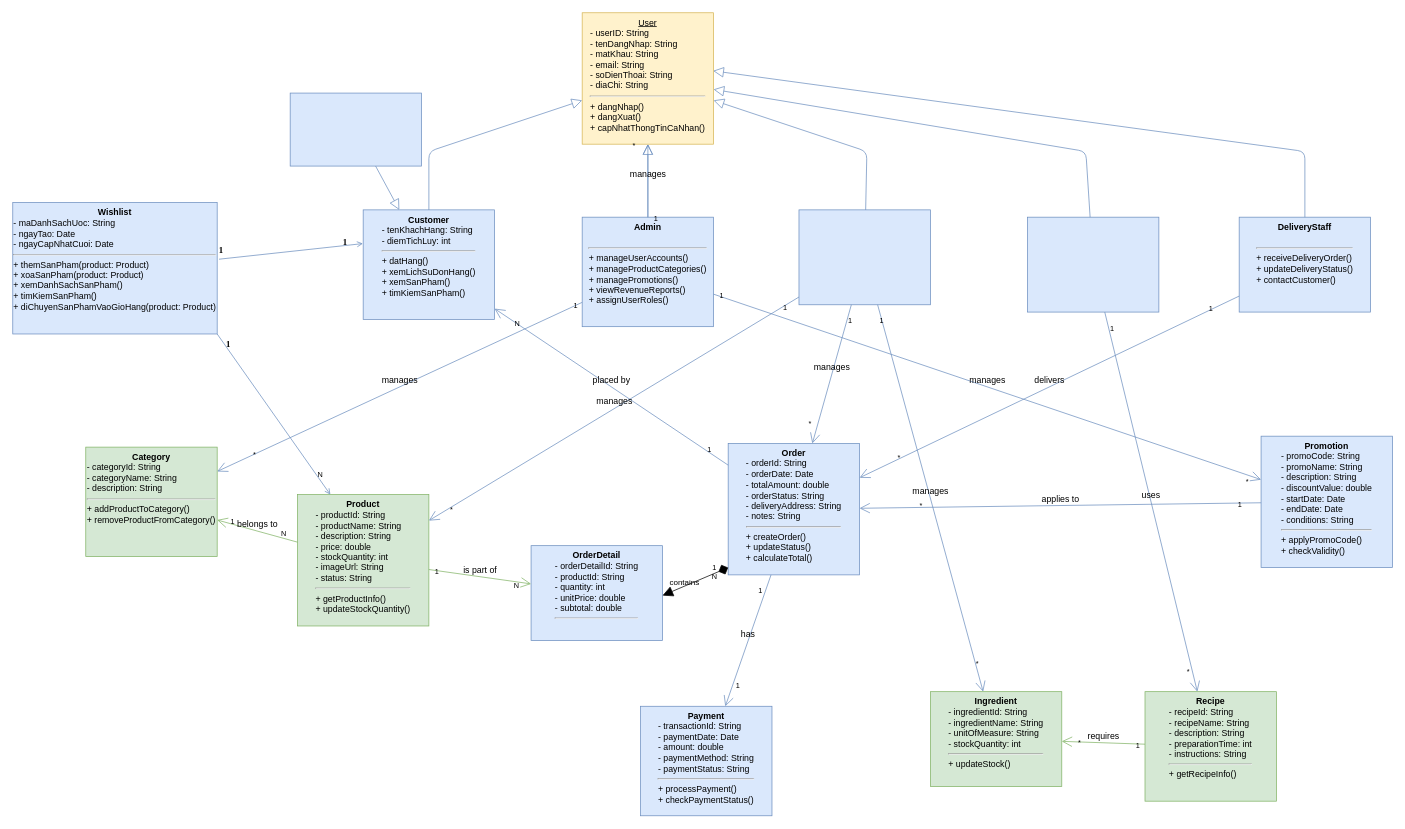
This 1405x829 diagram has some shape labels left out. Here are the shapes that lost their labels. From the top down, the centre of each, then its label:
[355,129]: GuestCustomer + xemSanPham() + timKiemSanPham()
[864,257]: Manager + manageInventory() + viewBusinessReports() + manageProducts()
[1093,264]: Baker + viewBakingOrders() + updateProductionStatus() + viewRecipeIngredients()
